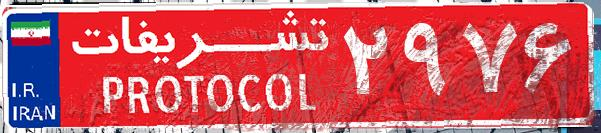2: (340, 20, 400, 115)
6: (520, 20, 580, 115)
7: (460, 20, 520, 115)
9: (400, 20, 460, 115)
تشریفات: (60, 8, 340, 125)
